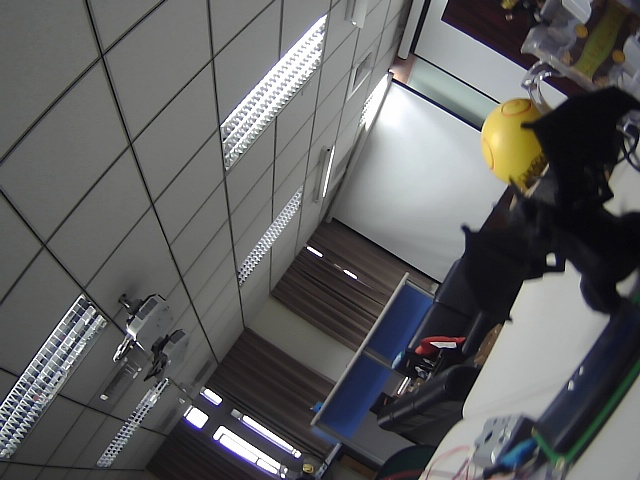charizard: (422, 83, 640, 331)
